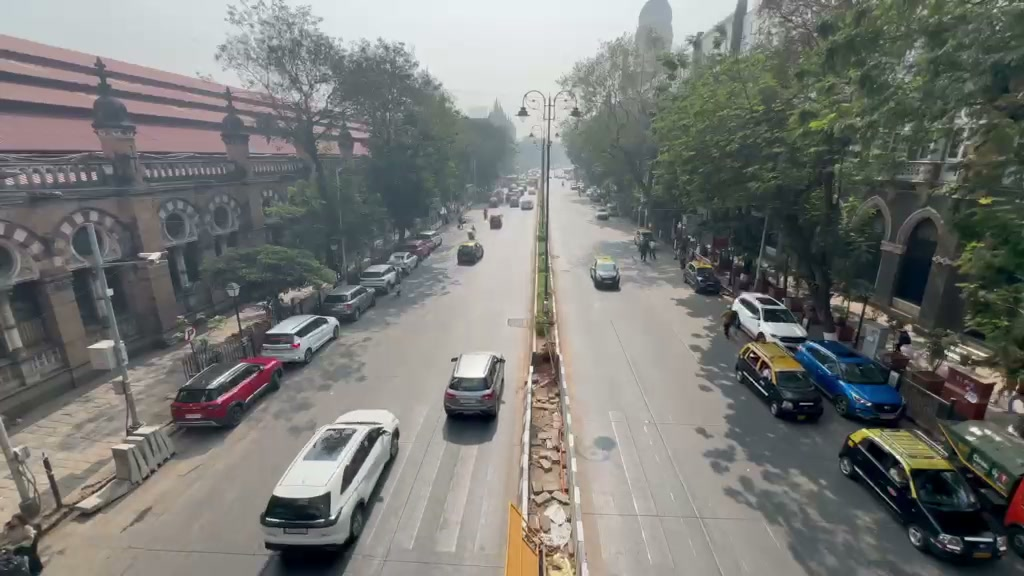car: (837, 425, 1006, 564), (259, 407, 402, 555), (791, 339, 907, 424), (169, 354, 284, 428), (735, 337, 822, 422), (723, 293, 810, 345), (442, 350, 506, 419), (260, 313, 340, 365), (317, 281, 376, 323), (358, 263, 402, 297), (591, 256, 621, 291), (407, 233, 439, 257), (387, 251, 420, 274), (457, 240, 485, 265), (694, 271, 723, 295), (486, 208, 504, 228), (518, 196, 535, 210)
